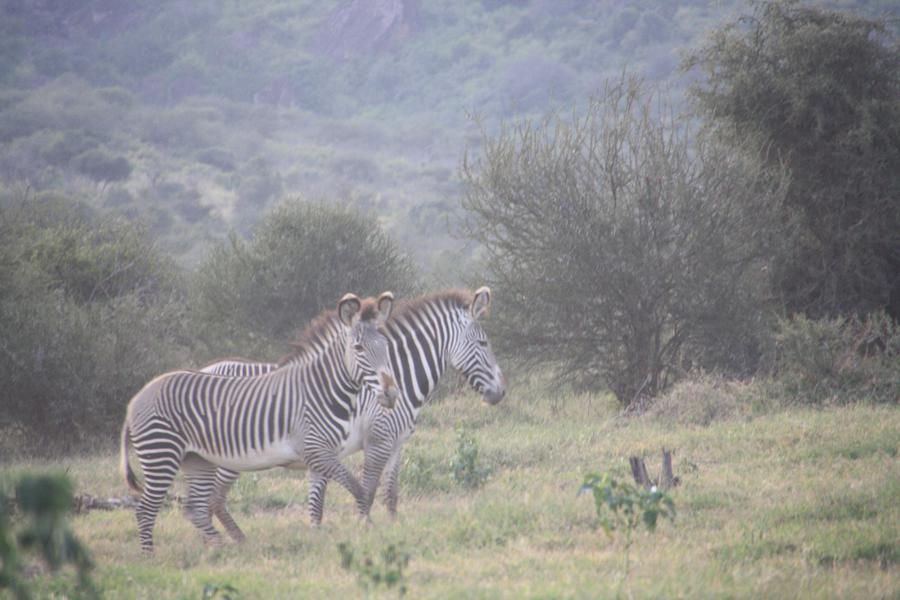zebra_grevys: (125, 376, 336, 459)
